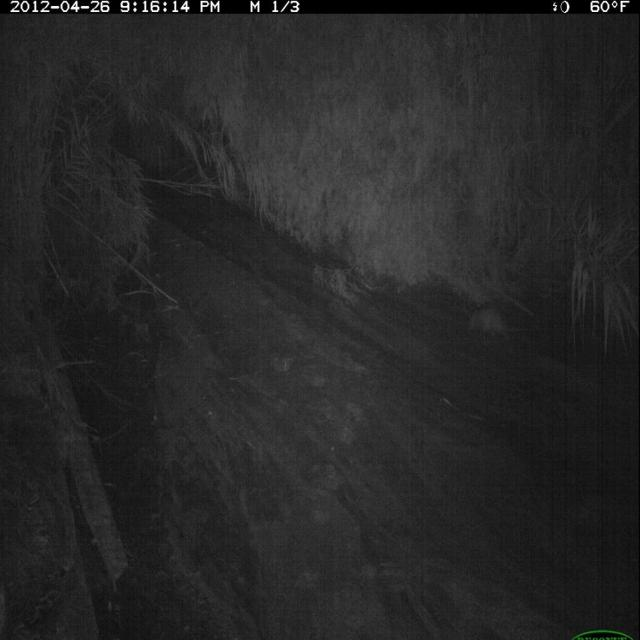opossum: (464, 302, 540, 353)
